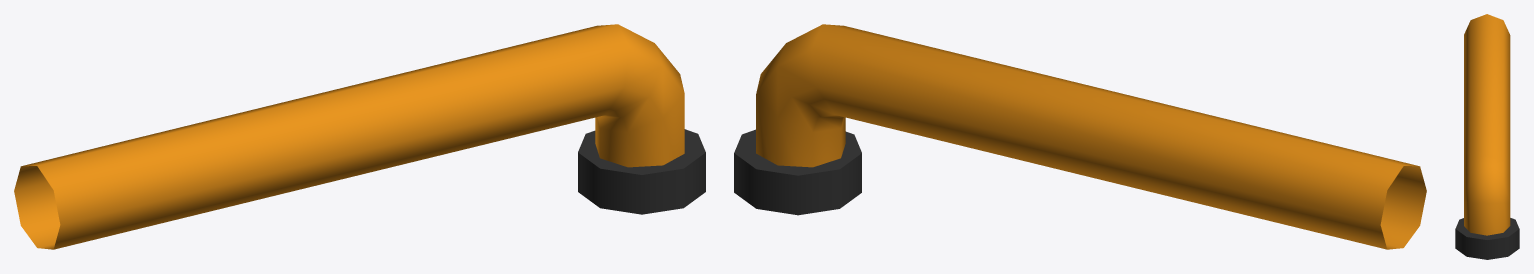
The model's file is Pipe_1_C_2_2.fbx.
The picture shows the model from 3 angles, left to right: view 1: azimuth 30°, elevation 25°; view 2: azimuth 150°, elevation 25°; view 3: azimuth 270°, elevation 25°; orthographic projection. The views are drawn at different scales.
Visible parts, largest first — view 1: Pipe_1_C_2_2; view 2: Pipe_1_C_2_2; view 3: Pipe_1_C_2_2.
Boxes of the visible parts, left/top/right/bottom form: Pipe_1_C_2_2: left=14, top=24, right=705, bottom=249; Pipe_1_C_2_2: left=734, top=24, right=1426, bottom=249; Pipe_1_C_2_2: left=1455, top=14, right=1519, bottom=259.
Size of the model in its own units: 180 by 43.92 by 30.12.
